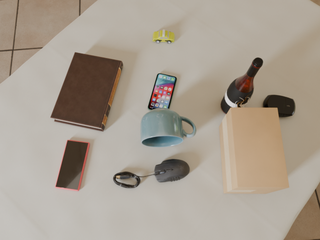book: (50, 52, 123, 131)
bottle: (221, 58, 263, 114)
box: (219, 107, 289, 194)
cup: (141, 108, 196, 147)
mouse: (152, 159, 190, 182), (263, 95, 295, 117)
phone: (55, 140, 90, 191), (148, 73, 177, 111)
toy_car: (153, 30, 174, 43)
